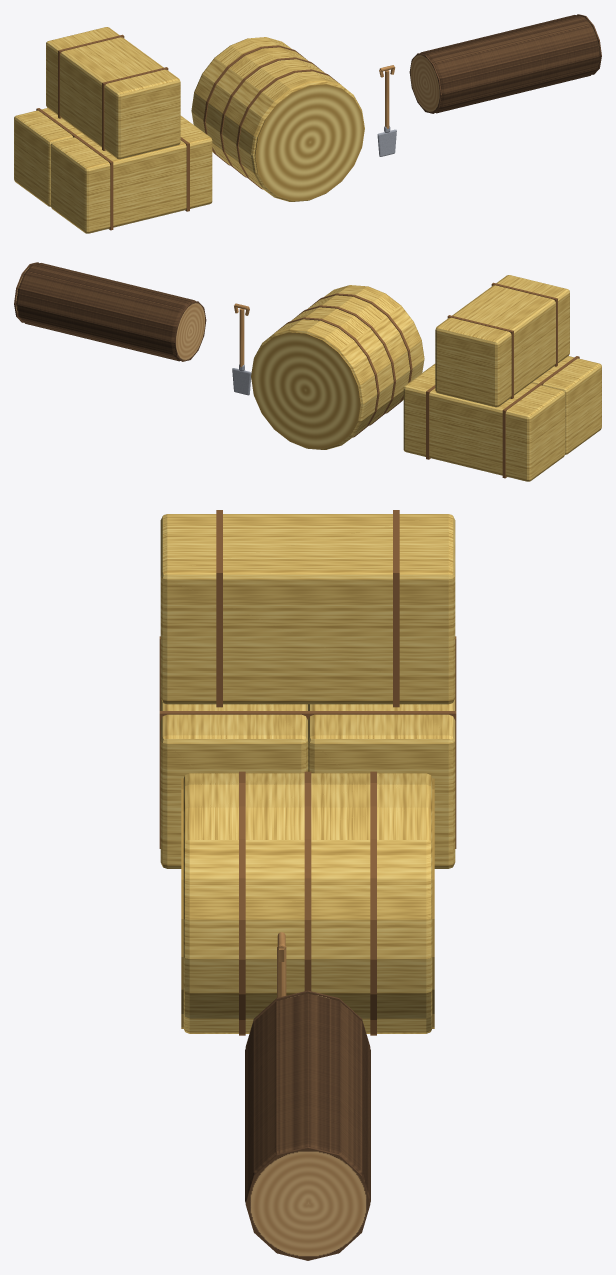
3 renders of one model, top to bottom at view 1: azimuth 30°, elevation 25°; view 2: azimuth 150°, elevation 25°; view 3: azimuth 270°, elevation 25°, orthographic. The views are drawn at different scales.
Visible parts, largest first — view 1: RoundBale, SquareBale.002, SquareBale, Log, SquareBale.001, SmallShovel; view 2: RoundBale, SquareBale.002, SquareBale.001, Log, SquareBale, SmallShovel; view 3: RoundBale, SquareBale.002, Log, SquareBale, SquareBale.001.
Part boxes in pixels (x1,y1,x2,y2): RoundBale: (191, 37, 364, 201); SquareBale.002: (46, 27, 180, 159); SquareBale: (50, 116, 212, 233); Log: (409, 14, 601, 113); SquareBale.001: (14, 108, 83, 206); SmallShovel: (377, 65, 396, 156); RoundBale: (251, 285, 424, 449); SquareBale.002: (435, 275, 569, 407); SquareBale.001: (403, 364, 565, 481); Log: (14, 262, 206, 361); SquareBale: (532, 356, 601, 454); SmallShovel: (232, 303, 251, 395); RoundBale: (181, 771, 434, 1035); SquareBale.002: (160, 510, 455, 707); Log: (245, 990, 370, 1260); SquareBale: (159, 636, 308, 868); SquareBale.001: (307, 636, 456, 868).
Size of the model in its own units: 4.72 by 1.35 by 1.13.
7 materials, 6 textured.
